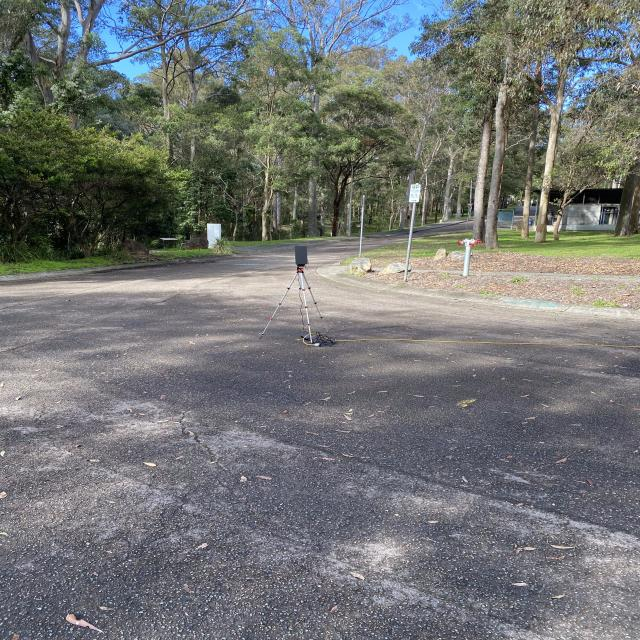matrix: (292, 244, 312, 266)
